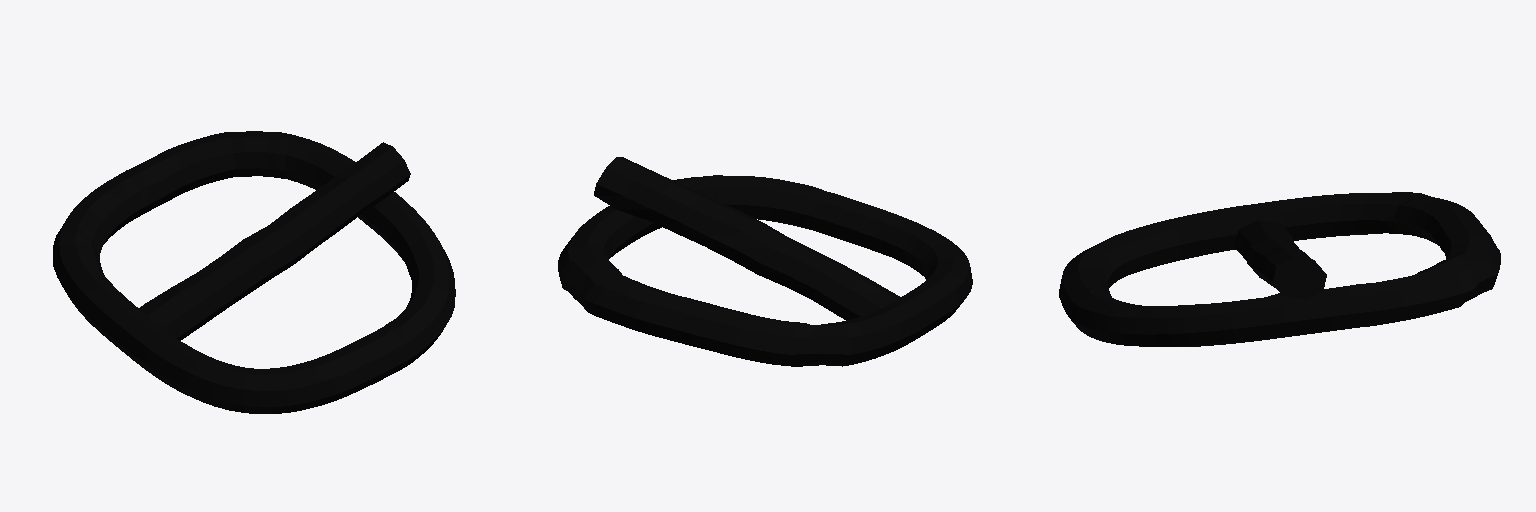
The model's file is Belt_Agrada.obj.
3 views of the same model, side by side, from view 1: azimuth 30°, elevation 25°; view 2: azimuth 150°, elevation 25°; view 3: azimuth 270°, elevation 25° (orthographic).
Parts seen in each view (by area): view 1: Belt; view 2: Belt; view 3: Belt.
Boxes of the visible parts, x1,y1,x2,y2 form: Belt: [53, 131, 455, 413]; Belt: [558, 157, 972, 366]; Belt: [1059, 192, 1500, 346].
Bounding box in the file's own units: 0.2003 × 0.0852 × 0.2466.